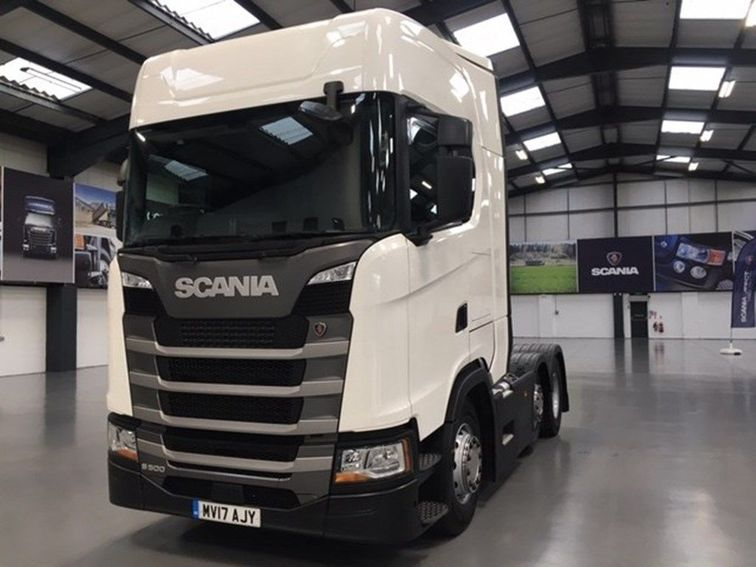Semi: (105, 9, 569, 544)
